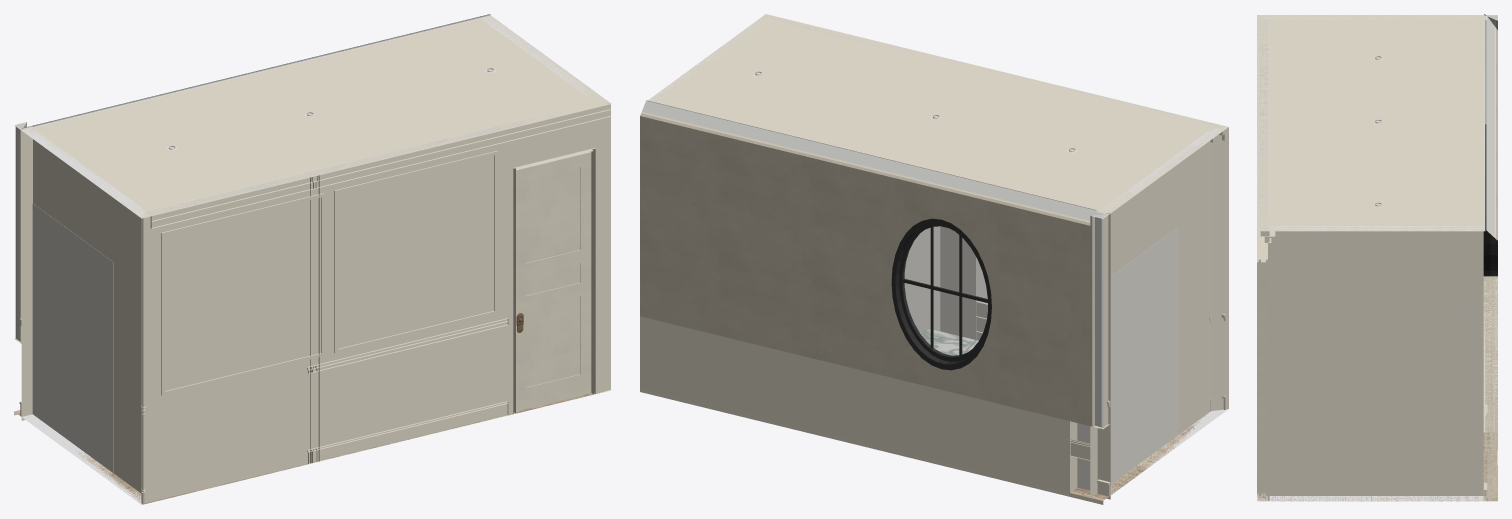
Rendered from primary-loli-closet-761166896a50.glb.
The picture shows the model from 3 angles, left to right: view 1: azimuth 30°, elevation 25°; view 2: azimuth 150°, elevation 25°; view 3: azimuth 270°, elevation 25°; orthographic projection. The views are drawn at different scales.
Visible parts, largest first — view 1: primary-loli-closet-21ac2ed1b4475155, primary-loli-closet-9d91b47435c6fb33, primary-loli-closet-6d601da8073fdc0e, primary-loli-closet-77b772996f7f67b8, primary-loli-closet-69af8f587252f9fa, primary-loli-closet-e7983be95ab098c1, primary-loli-closet-e48b5483df8cacdb, primary-loli-closet-40ba494a131a1b09, primary-loli-closet-c8a93ab7b69c3b53, primary-loli-closet-9e6cdde78fc443e1, primary-loli-closet-08e5178be0cf1e43, primary-loli-closet-3a163573517a0810 (+9 smaller); view 2: primary-loli-closet-3763e2fb8578d282, primary-loli-closet-9d91b47435c6fb33, primary-loli-closet-3a806c711886e947, primary-loli-closet-69af8f587252f9fa, primary-loli-closet-77b772996f7f67b8, primary-loli-closet-36e90e3a4ab3386f, primary-loli-closet-91eb0f90e9e94d87, primary-loli-closet-28fa16303b99ff8f, primary-loli-closet-2575515a05775d9e, primary-loli-closet-254dccfc69fd7b68, primary-loli-closet-3a163573517a0810, primary-loli-closet-4717698be62d0b44 (+6 smaller); view 3: primary-loli-closet-95b94d4b81cfb474, primary-loli-closet-9d91b47435c6fb33, primary-loli-closet-3a806c711886e947, primary-loli-closet-91eb0f90e9e94d87, primary-loli-closet-21ac2ed1b4475155, primary-loli-closet-9e6cdde78fc443e1, primary-loli-closet-4717698be62d0b44, primary-loli-closet-3a163573517a0810, primary-loli-closet-2575515a05775d9e, primary-loli-closet-982e9316be37b1b4, primary-loli-closet-36e90e3a4ab3386f, primary-loli-closet-942c52dd436cf41a (+6 smaller).
Part boxes in pixels (<box>): primary-loli-closet-21ac2ed1b4475155: <box>142,103,611,504</box>; primary-loli-closet-9d91b47435c6fb33: <box>21,15,611,218</box>; primary-loli-closet-6d601da8073fdc0e: <box>516,152,591,411</box>; primary-loli-closet-77b772996f7f67b8: <box>32,203,113,472</box>; primary-loli-closet-69af8f587252f9fa: <box>22,128,145,504</box>; primary-loli-closet-e7983be95ab098c1: <box>20,15,490,343</box>; primary-loli-closet-e48b5483df8cacdb: <box>310,175,319,462</box>; primary-loli-closet-40ba494a131a1b09: <box>161,193,324,395</box>; primary-loli-closet-c8a93ab7b69c3b53: <box>334,151,497,353</box>; primary-loli-closet-9e6cdde78fc443e1: <box>513,148,595,413</box>; primary-loli-closet-08e5178be0cf1e43: <box>150,104,611,228</box>; primary-loli-closet-3a163573517a0810: <box>141,98,603,211</box>; primary-loli-closet-3763e2fb8578d282: <box>640,113,1092,426</box>; primary-loli-closet-9d91b47435c6fb33: <box>647,14,1227,214</box>; primary-loli-closet-3a806c711886e947: <box>640,316,1077,492</box>; primary-loli-closet-69af8f587252f9fa: <box>1099,127,1228,495</box>; primary-loli-closet-77b772996f7f67b8: <box>1077,227,1178,490</box>; primary-loli-closet-36e90e3a4ab3386f: <box>891,218,991,370</box>; primary-loli-closet-91eb0f90e9e94d87: <box>642,100,1107,220</box>; primary-loli-closet-28fa16303b99ff8f: <box>924,226,987,340</box>; primary-loli-closet-2575515a05775d9e: <box>640,388,1205,504</box>; primary-loli-closet-254dccfc69fd7b68: <box>1093,215,1103,428</box>; primary-loli-closet-3a163573517a0810: <box>758,18,1214,142</box>; primary-loli-closet-4717698be62d0b44: <box>904,230,924,332</box>; primary-loli-closet-95b94d4b81cfb474: <box>1269,226,1483,501</box>; primary-loli-closet-9d91b47435c6fb33: <box>1257,14,1487,231</box>; primary-loli-closet-3a806c711886e947: <box>1483,276,1497,501</box>; primary-loli-closet-91eb0f90e9e94d87: <box>1485,15,1494,432</box>; primary-loli-closet-21ac2ed1b4475155: <box>1257,16,1269,501</box>; primary-loli-closet-9e6cdde78fc443e1: <box>1257,236,1265,493</box>; primary-loli-closet-4717698be62d0b44: <box>1421,297,1483,495</box>; primary-loli-closet-3a163573517a0810: <box>1268,19,1275,242</box>; primary-loli-closet-2575515a05775d9e: <box>1257,432,1497,501</box>; primary-loli-closet-982e9316be37b1b4: <box>1258,15,1266,242</box>; primary-loli-closet-36e90e3a4ab3386f: <box>1483,124,1497,276</box>; primary-loli-closet-942c52dd436cf41a: <box>1258,243,1260,495</box>.
Size of the model in its own units: 4.98 by 2.95 by 2.34.
23 materials, 5 textured.
